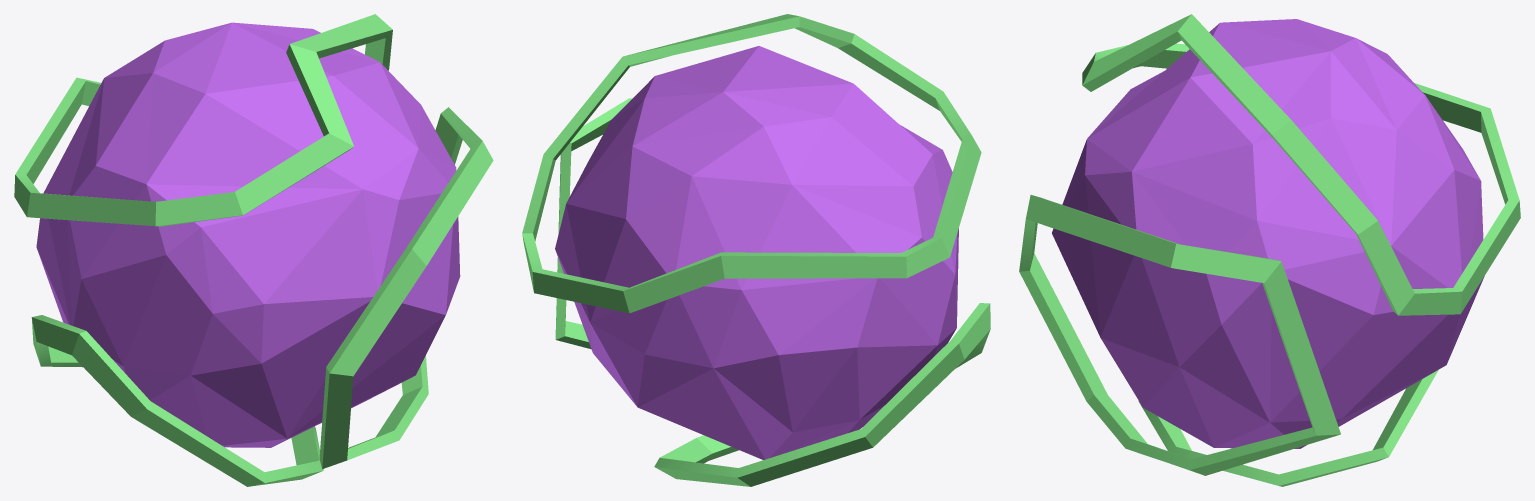
The model's file is Planet_10_a.fbx.
3 renders of one model, left to right at view 1: azimuth 30°, elevation 25°; view 2: azimuth 150°, elevation 25°; view 3: azimuth 270°, elevation 25°, orthographic. The views are drawn at different scales.
Parts seen in each view (by area): view 1: Planet_019; view 2: Planet_019; view 3: Planet_019.
Boxes of the visible parts, x1,y1,x2,y2 form: Planet_019: (14, 14, 493, 486); Planet_019: (522, 14, 990, 486); Planet_019: (1019, 14, 1520, 486).
Bounding box in the file's own units: 87.16 × 86.66 × 87.94.
